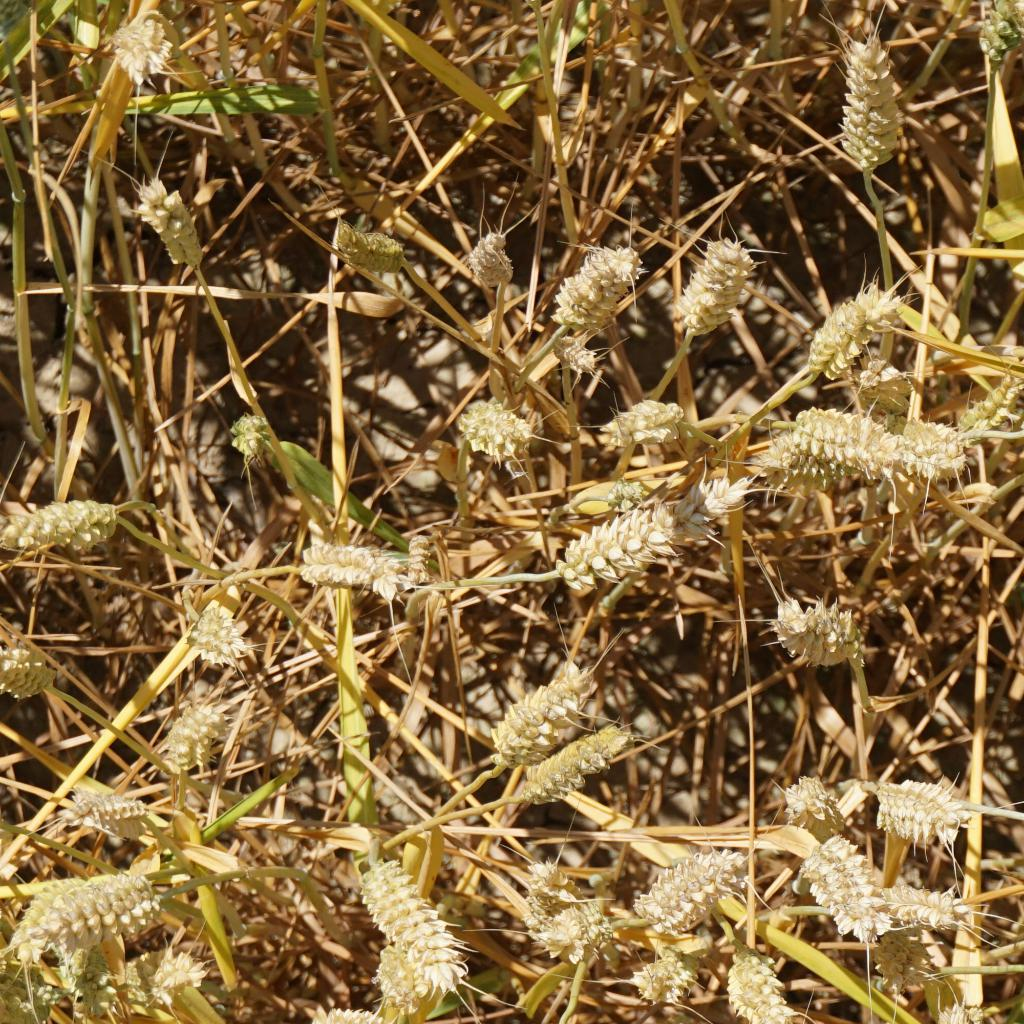0-0: (832, 24, 911, 179), (546, 506, 685, 594), (364, 860, 455, 969), (28, 870, 163, 941), (541, 234, 644, 327), (664, 219, 745, 332), (806, 820, 888, 931), (764, 584, 870, 665), (297, 537, 417, 608), (635, 836, 735, 921), (487, 669, 597, 743), (722, 940, 816, 1024), (516, 733, 635, 799), (860, 766, 963, 841), (662, 472, 759, 551), (873, 868, 968, 948), (597, 389, 699, 463), (871, 408, 968, 483), (445, 391, 540, 467), (131, 171, 202, 269), (4, 495, 128, 551), (113, 938, 207, 1010), (851, 344, 914, 447), (49, 935, 122, 1018), (795, 399, 879, 469), (534, 888, 611, 963), (952, 356, 1018, 439), (110, 9, 180, 87), (327, 217, 408, 281), (163, 689, 223, 768), (455, 222, 521, 292), (190, 600, 254, 671), (519, 851, 566, 943), (803, 281, 856, 362), (71, 786, 156, 835), (365, 947, 426, 1012), (537, 323, 607, 378), (224, 402, 277, 472), (972, 0, 1020, 75), (0, 641, 64, 694), (779, 766, 836, 823), (627, 951, 691, 1001), (590, 470, 664, 513), (753, 426, 810, 477), (841, 275, 891, 331), (851, 339, 910, 385), (1002, 0, 1024, 120), (402, 529, 433, 593), (0, 877, 20, 976), (0, 976, 41, 1024), (300, 1002, 385, 1024), (931, 998, 989, 1024), (516, 1011, 581, 1024)
